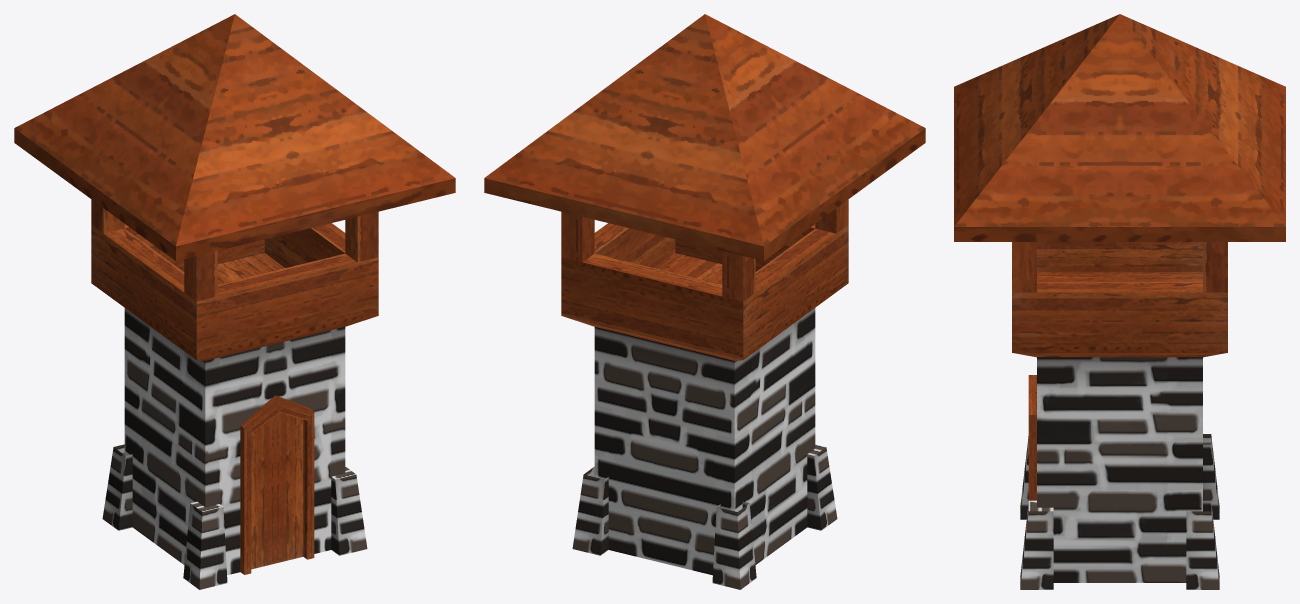
File: tower.fbx
3 views of the same model, side by side, from view 1: azimuth 30°, elevation 25°; view 2: azimuth 150°, elevation 25°; view 3: azimuth 270°, elevation 25° (orthographic). The views are drawn at different scales.
Parts seen in each view (by area): view 1: Tower; view 2: Tower; view 3: Tower.
Part boxes in pixels (<box>): Tower: <box>14,14,455,589</box>; Tower: <box>484,14,925,589</box>; Tower: <box>954,14,1285,589</box>.
Size of the model in its own units: 4 by 7.1 by 4.
Materials: 1 (1 with a texture image).
